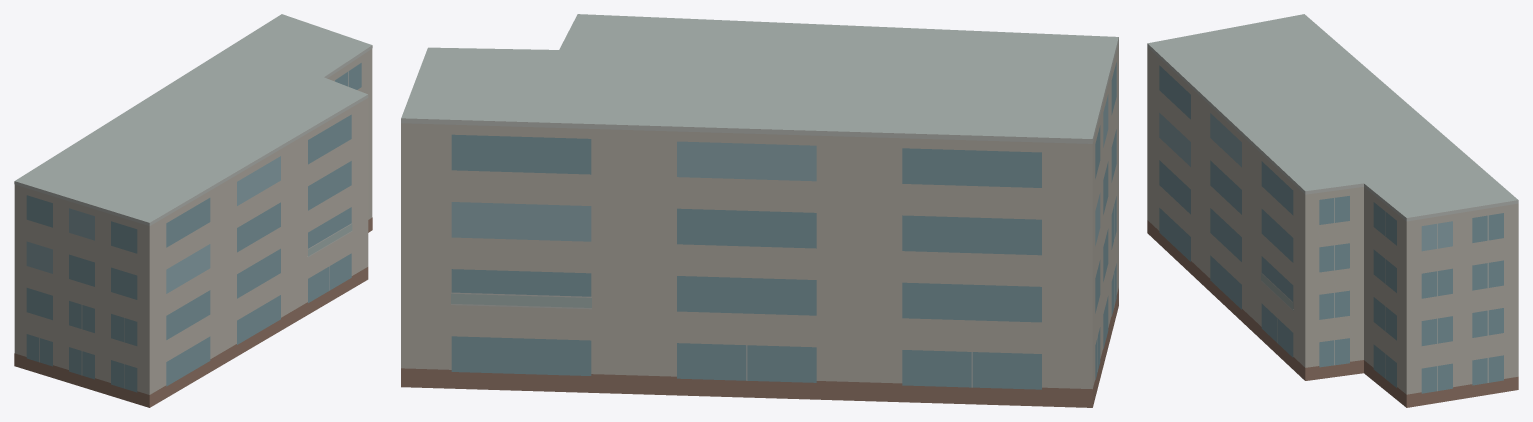
Rendered from survey-upis-32905856.glb.
3 views of the same model, side by side, from view 1: azimuth 30°, elevation 25°; view 2: azimuth 150°, elevation 25°; view 3: azimuth 270°, elevation 25° (orthographic). The views are drawn at different scales.
Parts seen in each view (by area): view 1: survey-upis-32905856.tmp; view 2: survey-upis-32905856.tmp; view 3: survey-upis-32905856.tmp.
Part boxes in pixels (x1,y1,x2,y2): survey-upis-32905856.tmp: (14, 14, 372, 407); survey-upis-32905856.tmp: (401, 14, 1118, 407); survey-upis-32905856.tmp: (1147, 14, 1518, 407).
Bounding box in the file's own units: 31.14 × 13.5 × 23.94.
